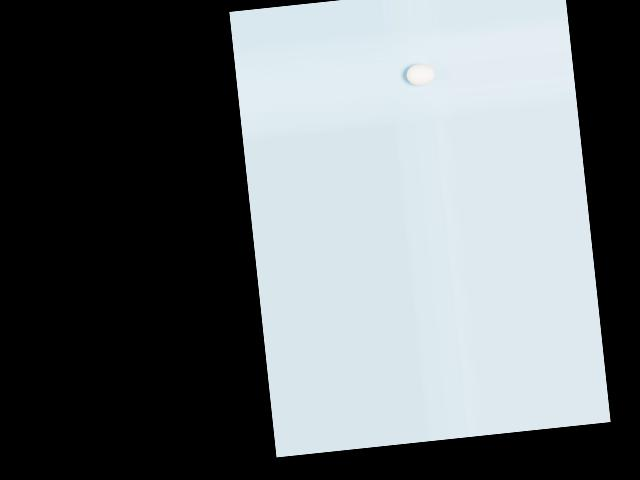egg: (405, 62, 435, 86)
